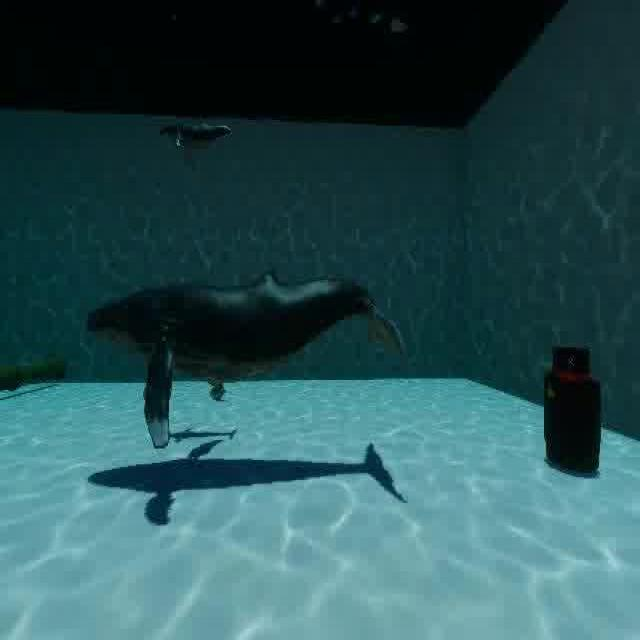Cylinder: (533, 319, 609, 480)
Pipe: (2, 333, 69, 395)
Shell: (206, 379, 234, 407)
Whale: (80, 263, 412, 453), (149, 105, 245, 167)
